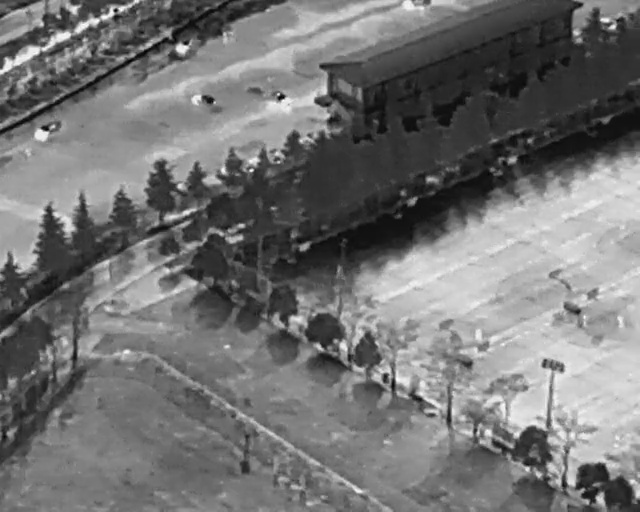Car: (188, 84, 225, 121), (29, 112, 64, 147), (172, 33, 198, 60), (270, 86, 295, 113), (400, 0, 433, 11), (220, 30, 229, 47)
Person: (473, 326, 483, 345), (615, 313, 625, 331)
